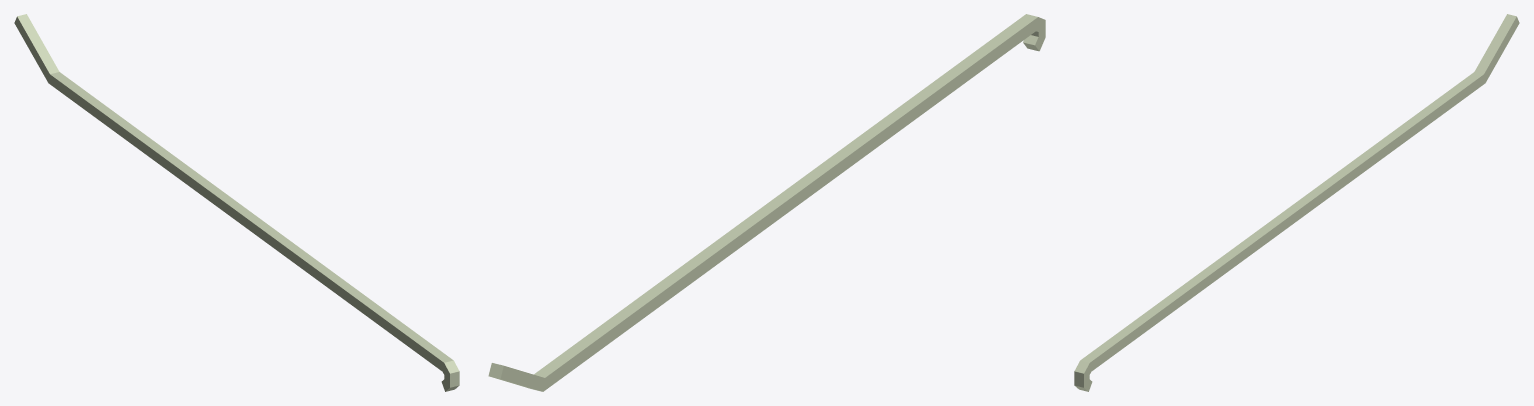
Rendered from original-56.obj.
3 renders of one model, left to right at view 1: azimuth 30°, elevation 25°; view 2: azimuth 150°, elevation 25°; view 3: azimuth 330°, elevation 25°, orthographic. The views are drawn at different scales.
Visible parts, largest first — view 1: mesh73/mesh73-geometry#mesh73-geometry; view 2: mesh73/mesh73-geometry#mesh73-geometry; view 3: mesh73/mesh73-geometry#mesh73-geometry.
Part boxes in pixels (x1,y1,x2,y2): mesh73/mesh73-geometry#mesh73-geometry: (14, 14, 459, 391); mesh73/mesh73-geometry#mesh73-geometry: (488, 14, 1045, 391); mesh73/mesh73-geometry#mesh73-geometry: (1074, 14, 1519, 391).
Size of the model in its own units: 0.00818 by 0.0505 by 0.6396.
